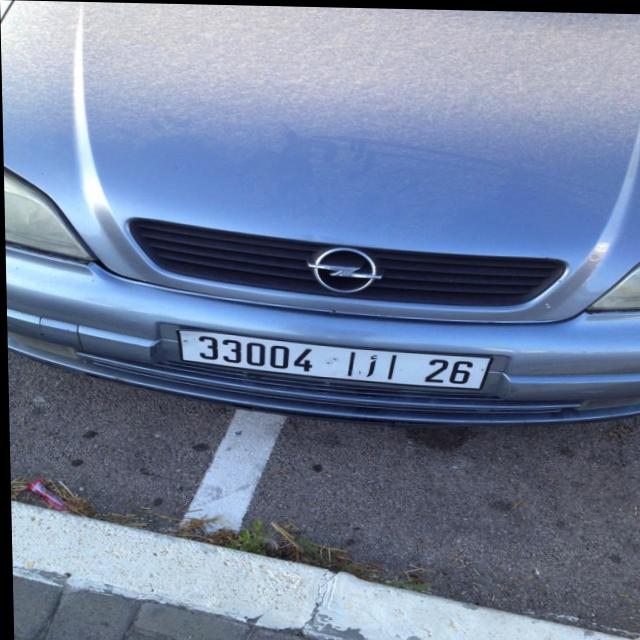License-Plate: (177, 330, 489, 386)
